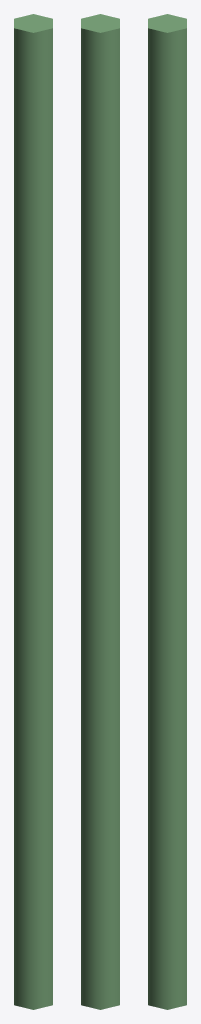
The model's file is tree_pine_01.glb.
3 views of the same model, side by side, from view 1: azimuth 30°, elevation 25°; view 2: azimuth 150°, elevation 25°; view 3: azimuth 330°, elevation 25° (orthographic).
Visible parts, largest first — view 1: tree_pine; view 2: tree_pine; view 3: tree_pine.
Boxes of the visible parts, box(x1,y1,x2,y2) form: tree_pine: box(14, 14, 52, 1009); tree_pine: box(81, 14, 119, 1009); tree_pine: box(148, 14, 186, 1009).
Bounding box in the file's own units: 0.5 × 12 × 0.433.
